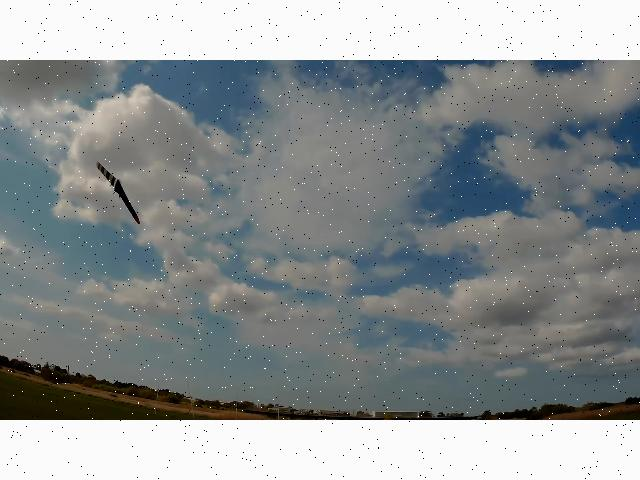Anti-Drone: (96, 162, 142, 224)
